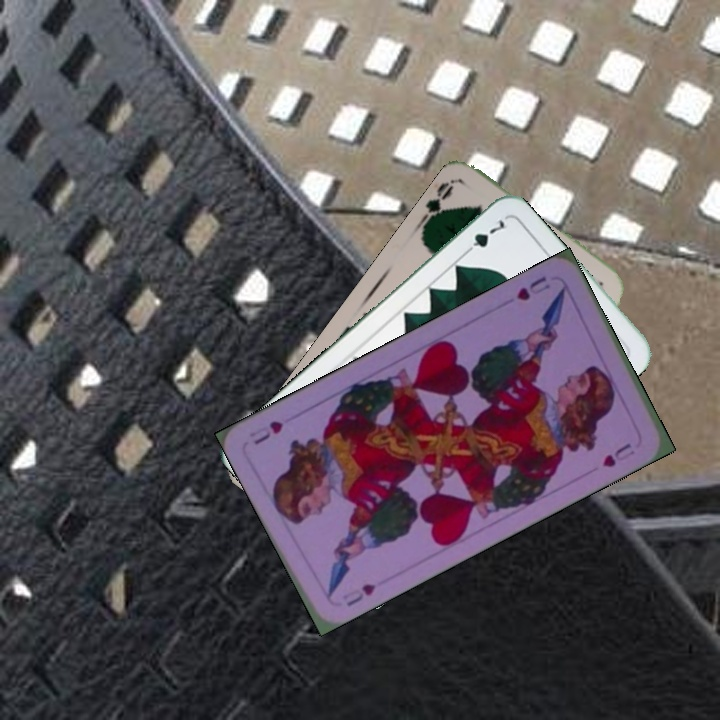G7: (459, 215, 510, 258)
GO: (414, 177, 456, 233)
HU: (512, 272, 553, 304), (342, 579, 378, 610)
